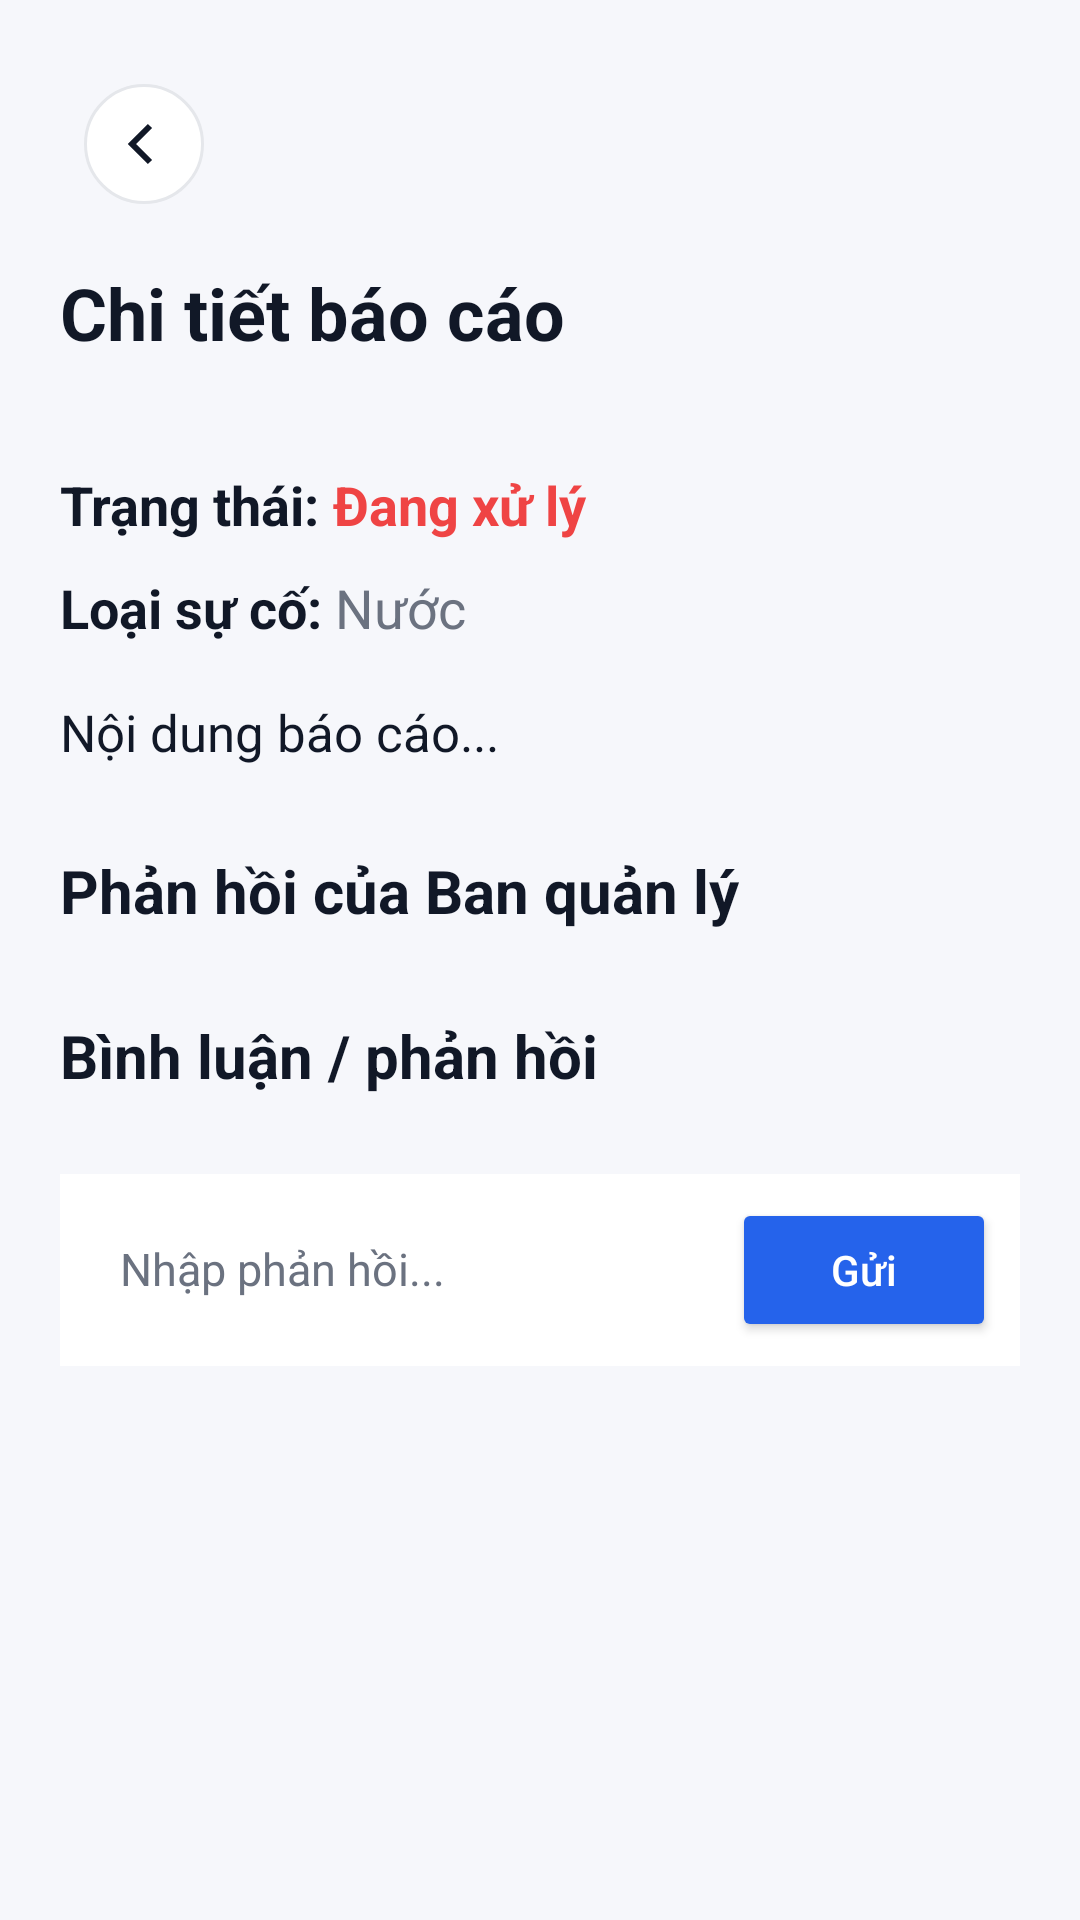

Icon click points for this 1080w x 1920h phone screenshot, format (x=x, y=y):
back: (x=144, y=144)
